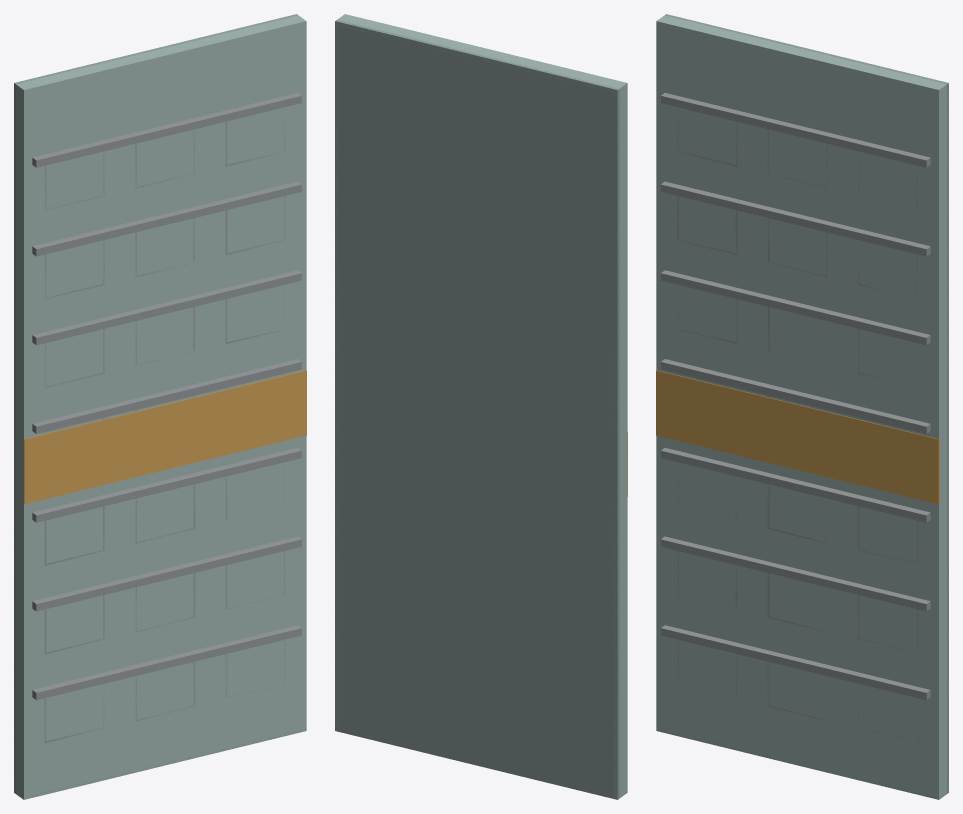
The model's file is hk-facade-ph-panel-bay.glb.
3 views of the same model, side by side, from view 1: azimuth 30°, elevation 25°; view 2: azimuth 150°, elevation 25°; view 3: azimuth 330°, elevation 25° (orthographic).
Visible parts, largest first — view 1: facade-ph; view 2: facade-ph; view 3: facade-ph.
Part boxes in pixels (bbox=[...]): facade-ph: bbox=[14, 14, 306, 799]; facade-ph: bbox=[335, 14, 627, 799]; facade-ph: bbox=[656, 14, 948, 799].
Size of the model in its own units: 10 by 24 by 0.85.
